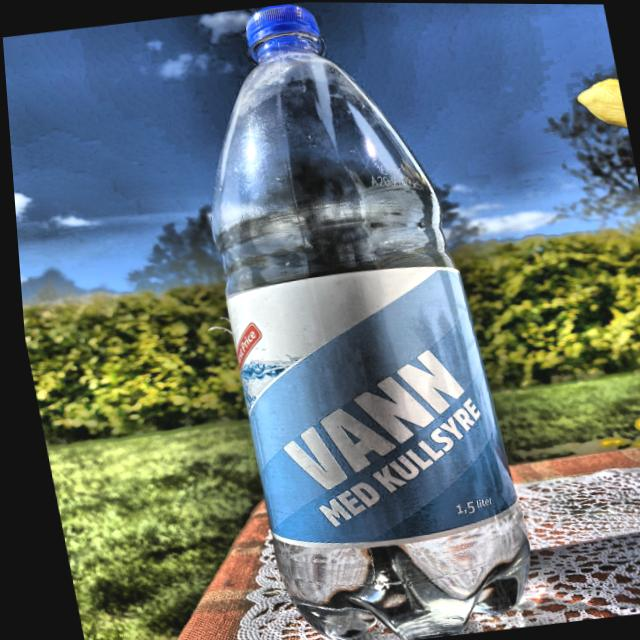Bottles: (145, 1, 592, 640)
